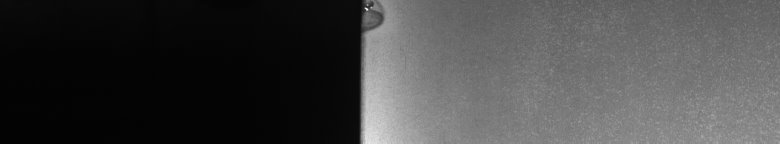hb: (372, 4, 390, 34)
